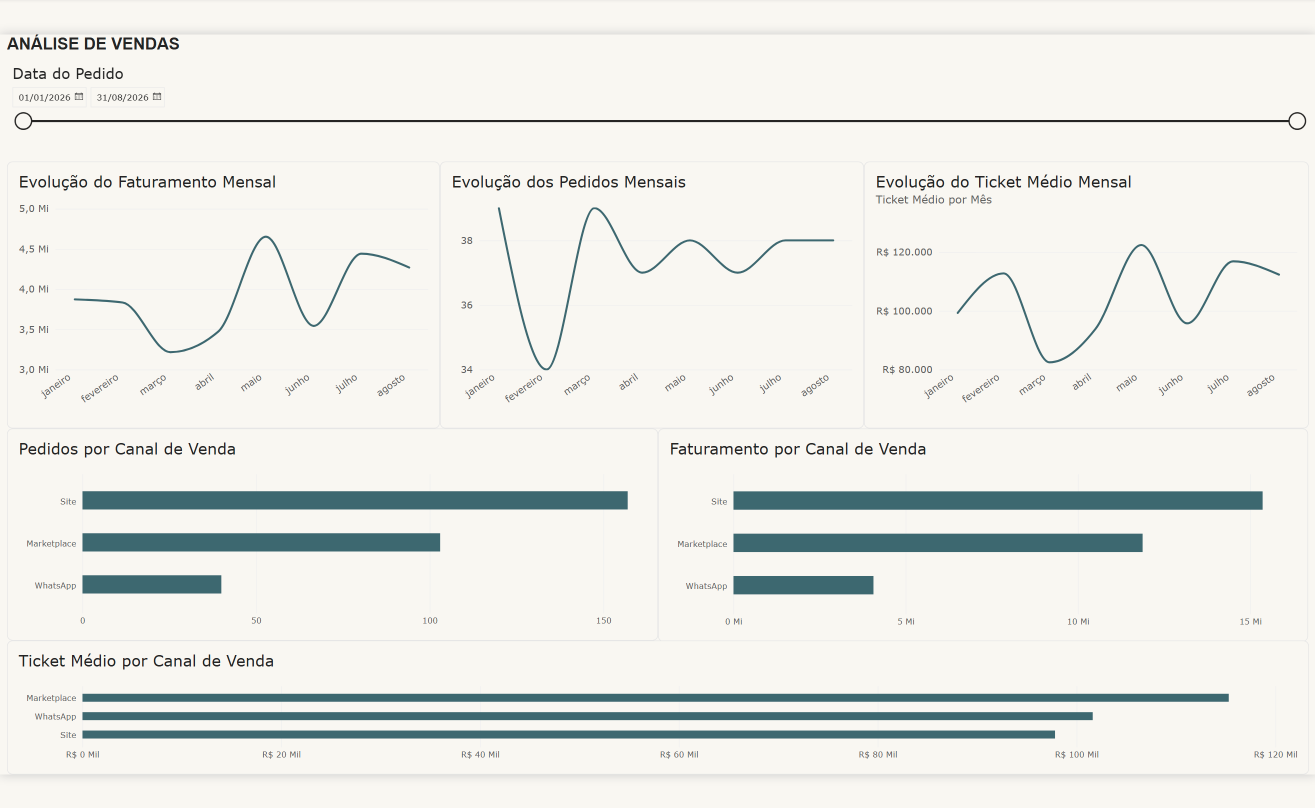

The page's visual inventory and layout, read from the dashboard file:
{"tool":"powerbi","page":{"name":"02 - Análise de Vendas","canvas":[1920,1080],"ordinal":1},"visuals":[{"type":"textbox","box":[10.2,0,280.1,64.2],"z":0},{"type":"lineChart","title":"Evolução do Faturamento Mensal","fields":{"Category":["pedidos.data_pedido.Variation.Hierarquia de datas.Mês"],"Y":["itens_pedido.Faturamento Total"]},"box":[10.2,185.3,631.7,389.5],"z":1},{"type":"lineChart","title":"Evolução dos Pedidos Mensais","fields":{"Category":["pedidos.data_pedido.Variation.Hierarquia de datas.Mês"],"Y":["pedidos.Pedidos Totais"]},"box":[641.9,185.3,618.6,389.5],"z":2},{"type":"clusteredBarChart","title":"Pedidos por Canal de Venda","fields":{"Category":["pedidos.canal_venda"],"Y":["pedidos.Pedidos Totais"]},"box":[10.2,574.8,949.8,309.3],"z":3},{"type":"clusteredBarChart","title":"Faturamento por Canal de Venda","fields":{"Category":["pedidos.canal_venda"],"Y":["itens_pedido.Faturamento Total"]},"box":[960,574.8,948.3,310.8],"z":4},{"type":"clusteredBarChart","title":"Ticket Médio por Canal de Venda","fields":{"Category":["pedidos.canal_venda"],"Y":["pedidos.Ticket Médio"]},"box":[10.2,884.1,1899.6,195.5],"z":5},{"type":"slicer","fields":{"Values":["pedidos.data_pedido"]},"box":[10.2,43.8,1898.1,141.5],"z":6},{"type":"lineChart","title":"Evolução do Ticket Médio Mensal","fields":{"Category":["pedidos.data_pedido.Variation.Hierarquia de datas.Mês"],"Y":["pedidos.Ticket Médio"]},"box":[1260.5,185.3,649.2,389.5],"z":7}]}

Visuals, with their boxes on the page's 1920x1080 design canvas (x1, y1, x2, y2). These are canvas units, not pixel positions in the 1315x808 screenshot, which may show the page scaled, cropped or inside an application window:
textbox: <bbox>10, 0, 290, 64</bbox>
"Evolução do Faturamento Mensal" lineChart: <bbox>10, 185, 642, 575</bbox>
"Evolução dos Pedidos Mensais" lineChart: <bbox>642, 185, 1260, 575</bbox>
"Pedidos por Canal de Venda" clusteredBarChart: <bbox>10, 575, 960, 884</bbox>
"Faturamento por Canal de Venda" clusteredBarChart: <bbox>960, 575, 1908, 886</bbox>
"Ticket Médio por Canal de Venda" clusteredBarChart: <bbox>10, 884, 1910, 1080</bbox>
slicer - pedidos.data_pedido: <bbox>10, 44, 1908, 185</bbox>
"Evolução do Ticket Médio Mensal" lineChart: <bbox>1260, 185, 1910, 575</bbox>
